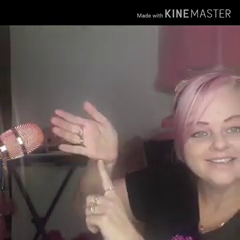T: (46, 97, 144, 237)
